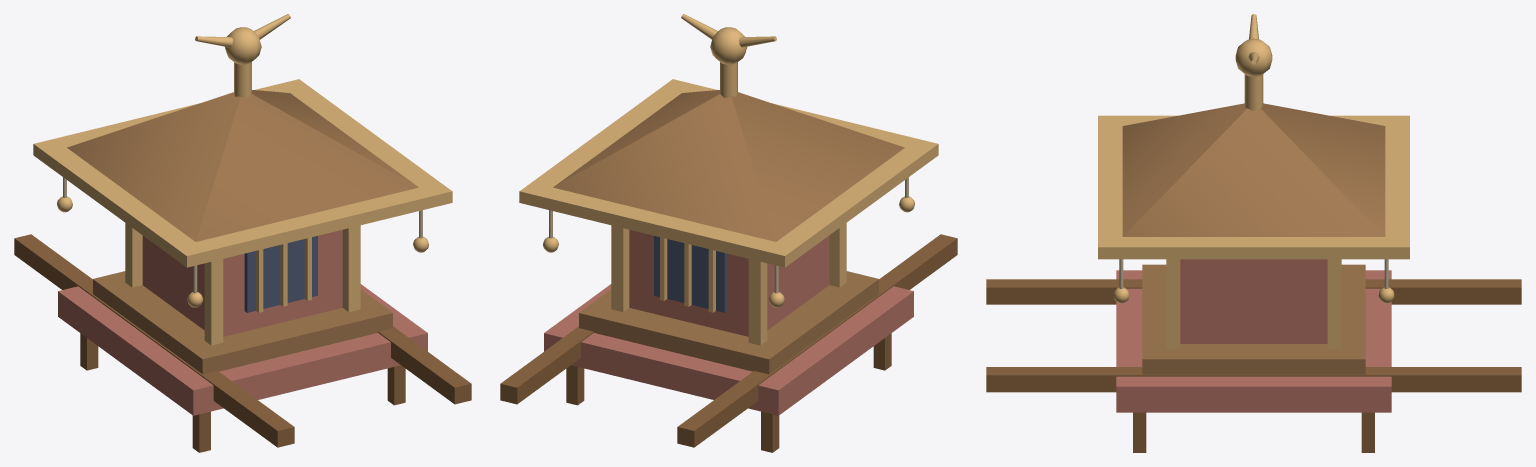
The model's file is komachi-mikoshi.glb.
3 renders of one model, left to right at view 1: azimuth 30°, elevation 25°; view 2: azimuth 150°, elevation 25°; view 3: azimuth 270°, elevation 25°, orthographic.
Visible parts, largest first — view 1: Mikoshi_Shrine_And_Carry_Poles; view 2: Mikoshi_Shrine_And_Carry_Poles; view 3: Mikoshi_Shrine_And_Carry_Poles.
Boxes of the visible parts, x1=… form: Mikoshi_Shrine_And_Carry_Poles: x1=14, y1=14, x2=471, y2=452; Mikoshi_Shrine_And_Carry_Poles: x1=500, y1=14, x2=957, y2=452; Mikoshi_Shrine_And_Carry_Poles: x1=986, y1=14, x2=1521, y2=452.
Size of the model in its own units: 0.6 by 0.7747 by 1.03.
